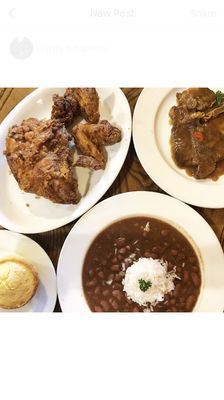sushi: (56, 191, 219, 311), (0, 88, 133, 233), (0, 227, 59, 311)
